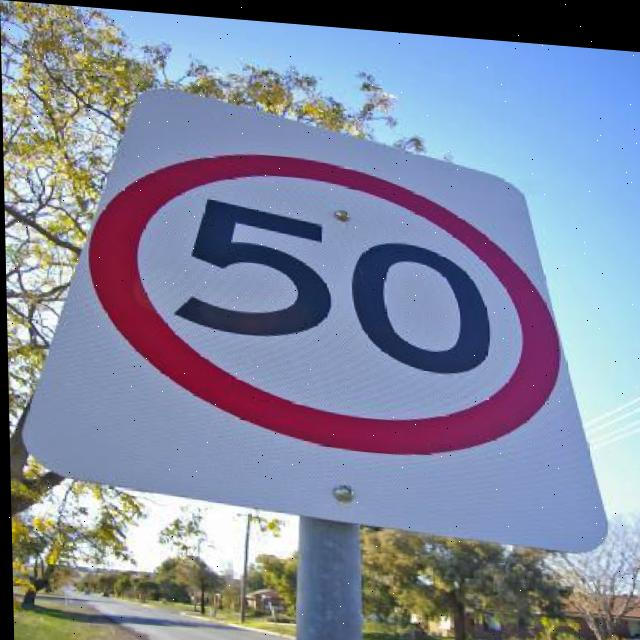Speed limit 50: (82, 144, 567, 468)
